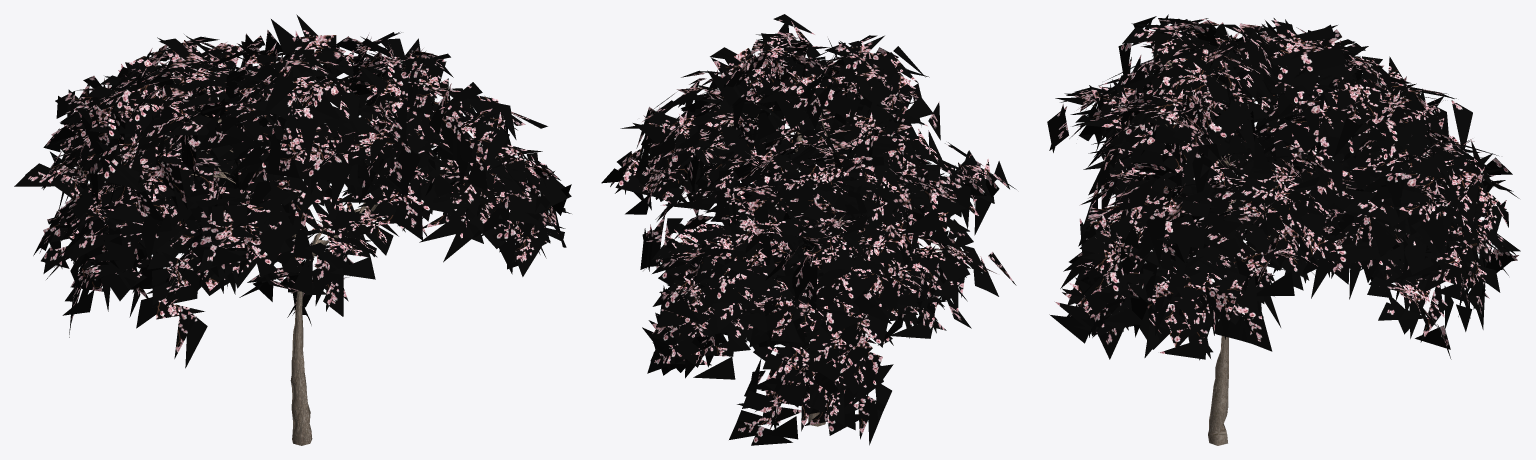
Rendered from Cherry_A_lod1.obj.
The picture shows the model from 3 angles, left to right: view 1: azimuth 30°, elevation 25°; view 2: azimuth 150°, elevation 25°; view 3: azimuth 270°, elevation 25°; orthographic projection. The views are drawn at different scales.
Parts seen in each view (by area): view 1: model; view 2: model; view 3: model.
Part boxes in pixels (x1,y1,x2,y2): model: (14,14,571,445); model: (601,14,1016,445); model: (1047,14,1520,445).
Size of the model in its own units: 66.69 by 58.39 by 61.2.
Materials: 2 (2 with a texture image).
